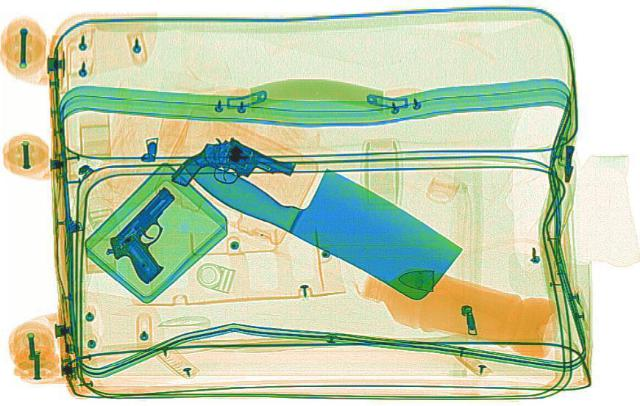Gun: (79, 184, 231, 282), (160, 127, 302, 209)
Knife: (173, 119, 491, 308)
